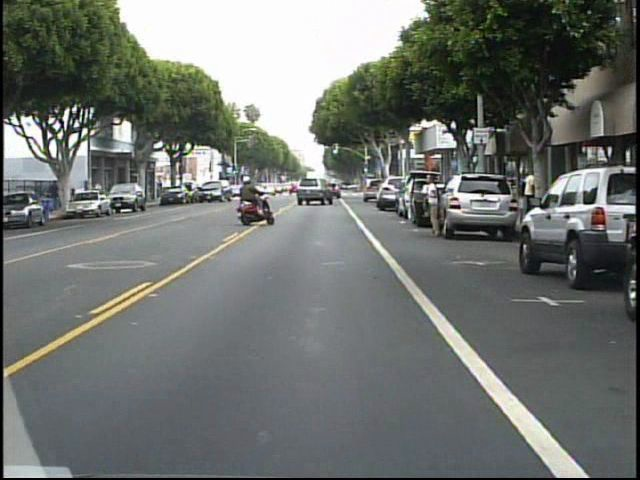person: (234, 172, 269, 221), (424, 169, 445, 238), (520, 166, 538, 226), (48, 177, 64, 216)
